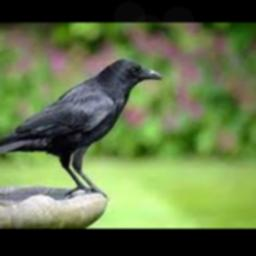Crow: (0, 57, 163, 197)
